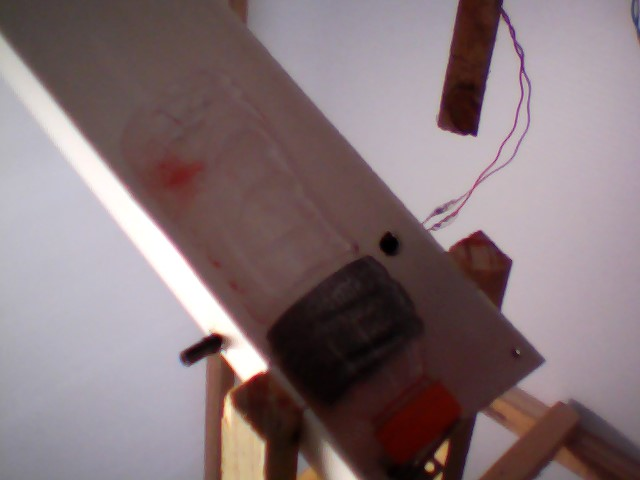plastico: (100, 62, 465, 465)
